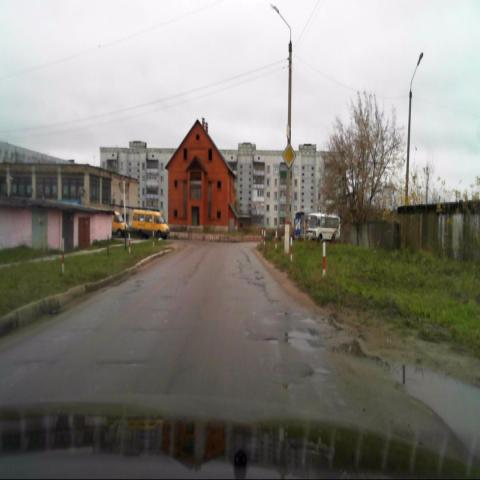2_1: (282, 144, 296, 168)
